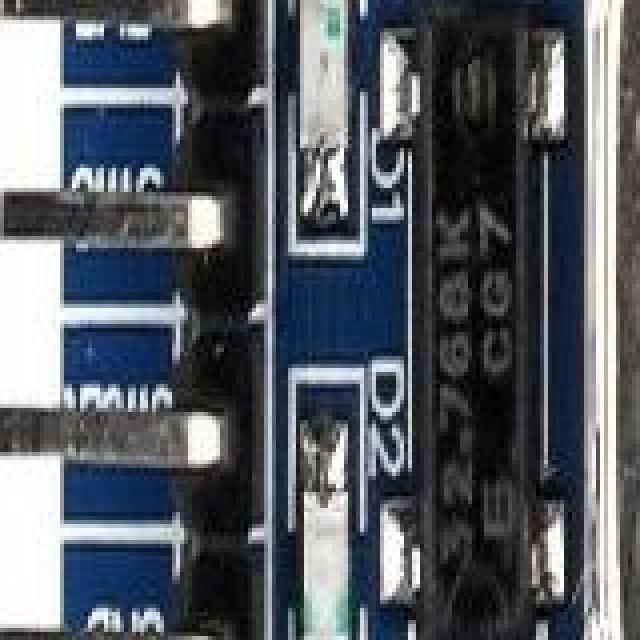IC: (396, 0, 548, 636)
LED: (284, 392, 352, 640), (288, 0, 356, 216)
clock: (588, 0, 640, 640)
connector: (4, 0, 260, 640)
